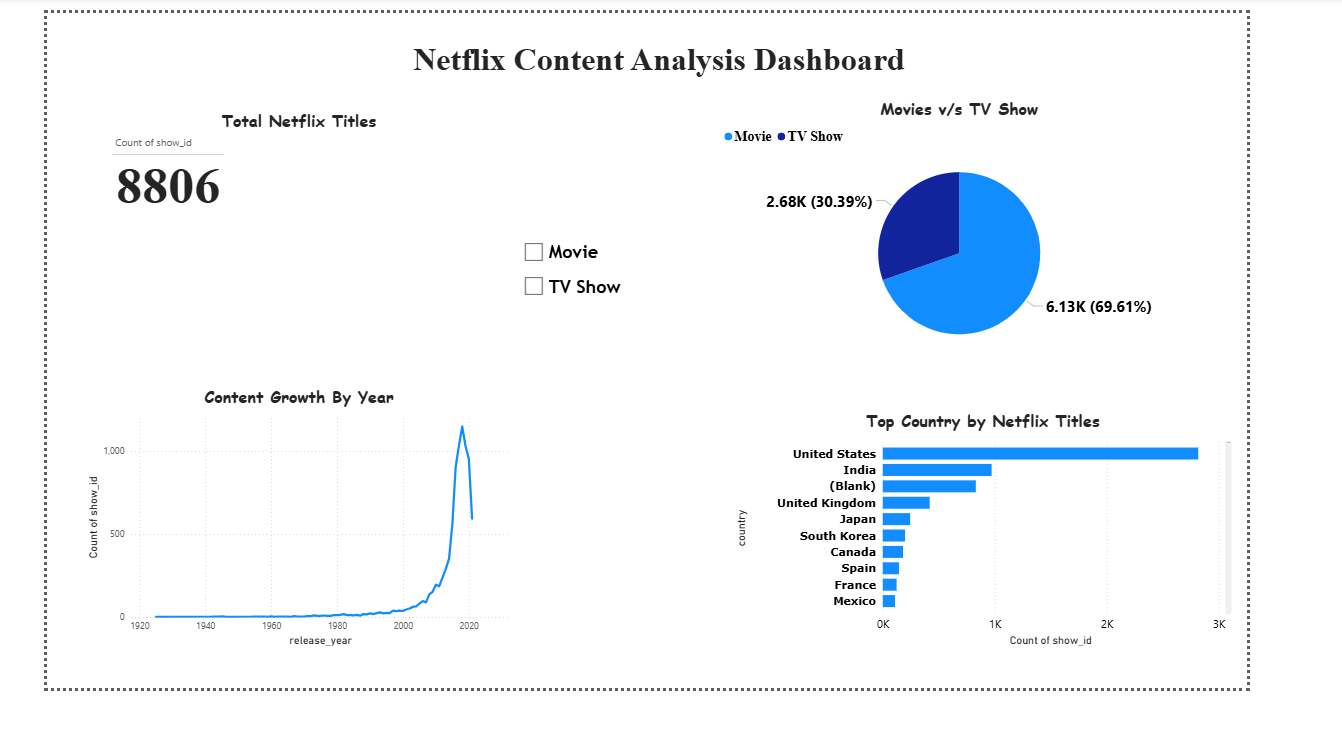

The page's visual inventory and layout, read from the dashboard file:
{"tool":"powerbi","page":{"name":"Page 1","canvas":[1600,900],"ordinal":0},"visuals":[{"type":"pieChart","title":"Movies v/s TV Show","fields":{"Category":["netflix_titles.type"],"Y":["CountNonNull(netflix_titles.show_id)"]},"box":[896,112,640,352],"z":0},{"type":"lineChart","title":"Content Growth By Year","fields":{"Category":["netflix_titles.release_year"],"Y":["CountNonNull(netflix_titles.show_id)"]},"box":[48,496,576,352],"z":2000},{"type":"textbox","box":[480,32,672,64],"z":2001},{"type":"tableEx","title":"Total Netflix Titles","fields":{"Values":["netflix_titles.show_id"]},"box":[80,128,512,336],"z":2002},{"type":"clusteredBarChart","title":"Top Country by Netflix Titles","fields":{"Category":["netflix_titles.country"],"Y":["CountNonNull(netflix_titles.show_id)"]},"box":[912,528,672,320],"z":2003},{"type":"slicer","fields":{"Values":["netflix_titles.type"]},"box":[624,272,192,176],"z":2004}]}

Visuals, with their boxes in screenshot pixels (x1, y1, x2, y2), scaled from the page's 1600x900 canvas onto the 1342x741 screenshot:
"Movies v/s TV Show" pieChart: l=752, t=92, r=1288, b=382
"Content Growth By Year" lineChart: l=40, t=408, r=523, b=698
textbox: l=403, t=26, r=966, b=79
"Total Netflix Titles" tableEx: l=67, t=105, r=497, b=382
"Top Country by Netflix Titles" clusteredBarChart: l=765, t=435, r=1329, b=698
slicer - netflix_titles.type: l=523, t=224, r=684, b=369
